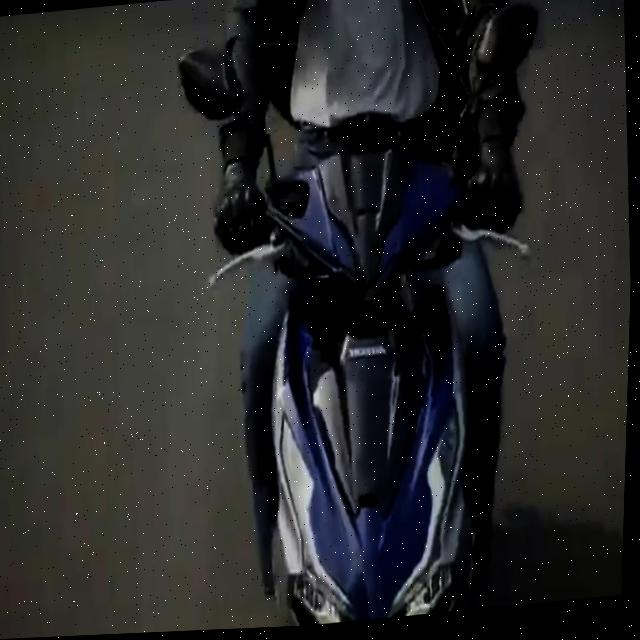motorcycle: (154, 0, 576, 632)
